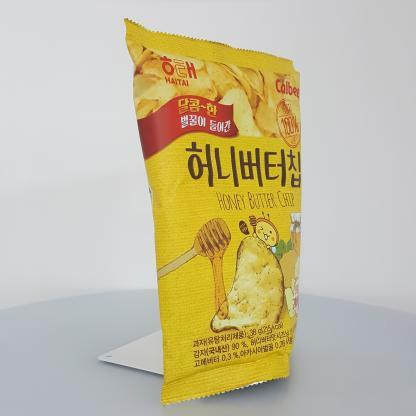Plastic Packaging: (115, 11, 316, 414)
